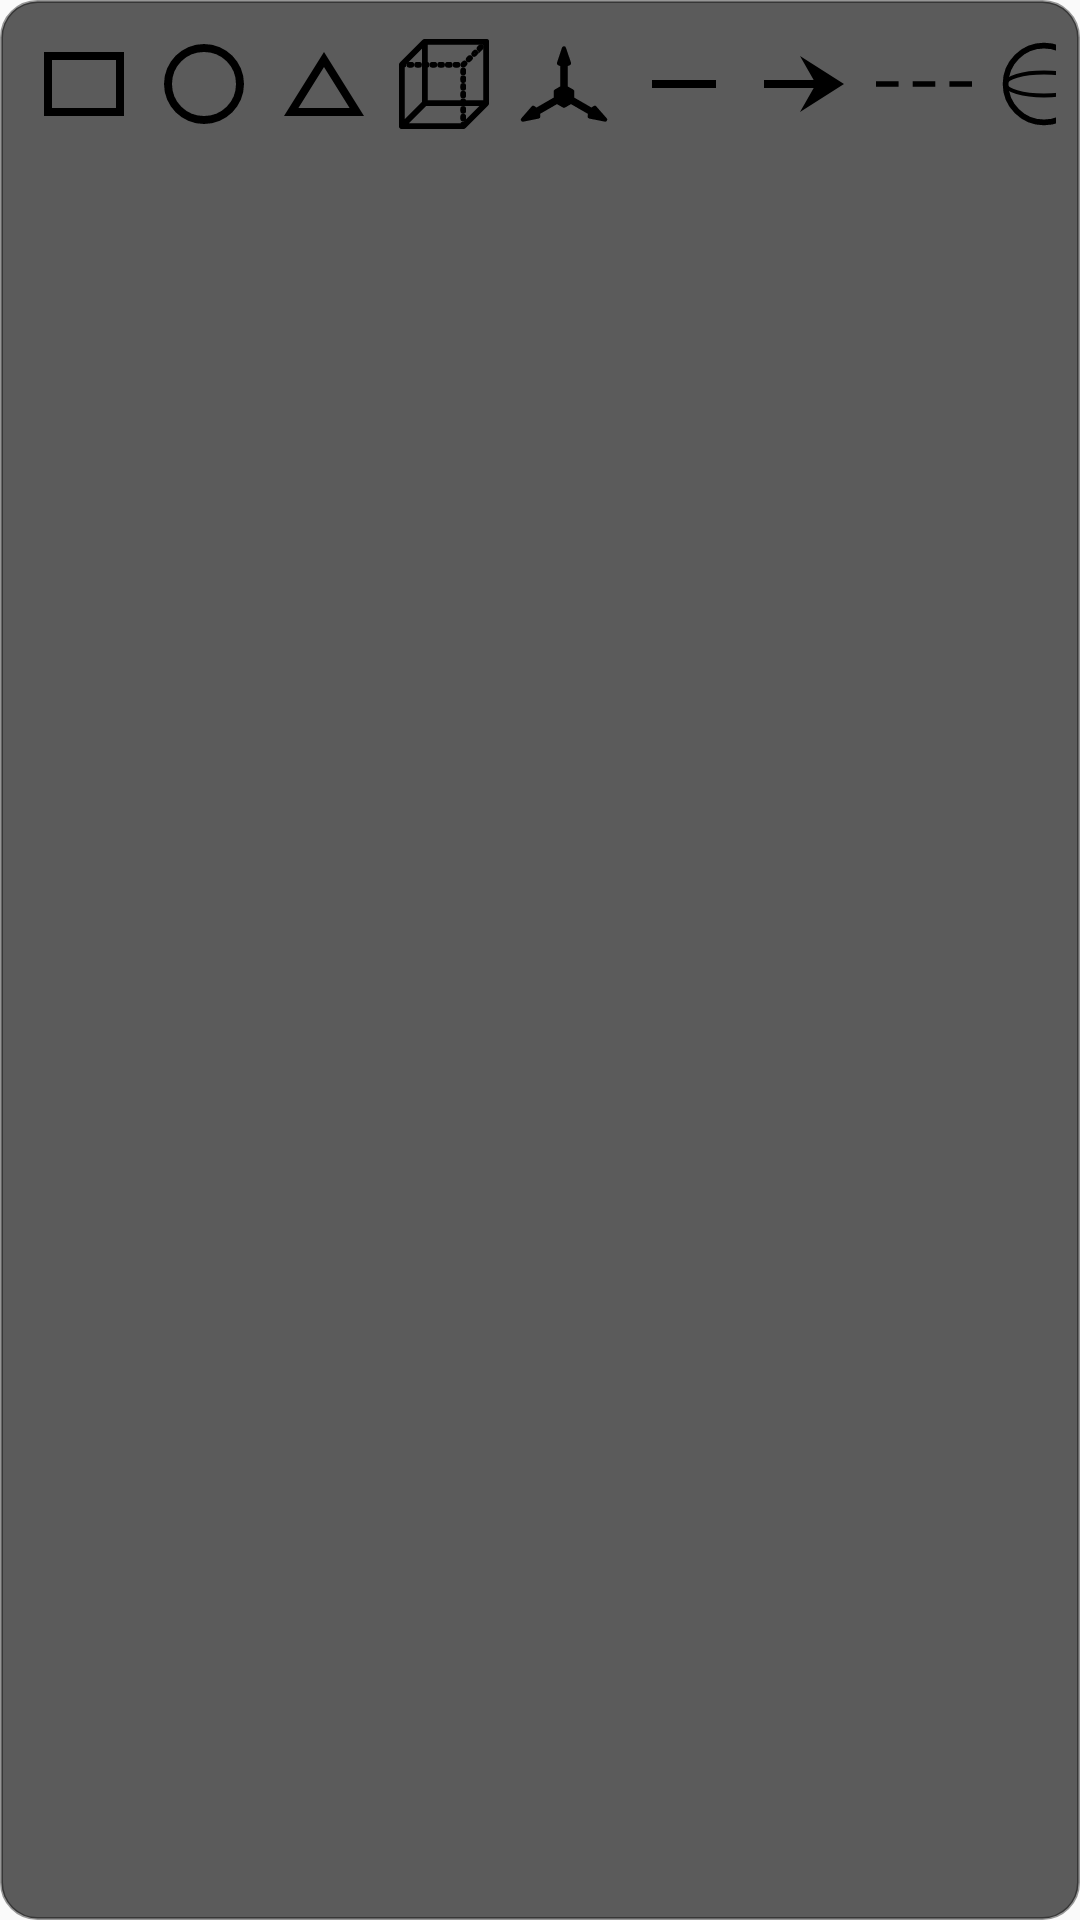

Locate icon controls on the screen. Image size 1080*1920, boxes as bbox=(x1, y1, x2, y2).
axis: bbox=(521, 46, 607, 122)
circle: bbox=(164, 44, 244, 124)
cube: bbox=(399, 39, 489, 129)
ray: bbox=(764, 56, 844, 112)
triangle: bbox=(284, 52, 364, 116)
